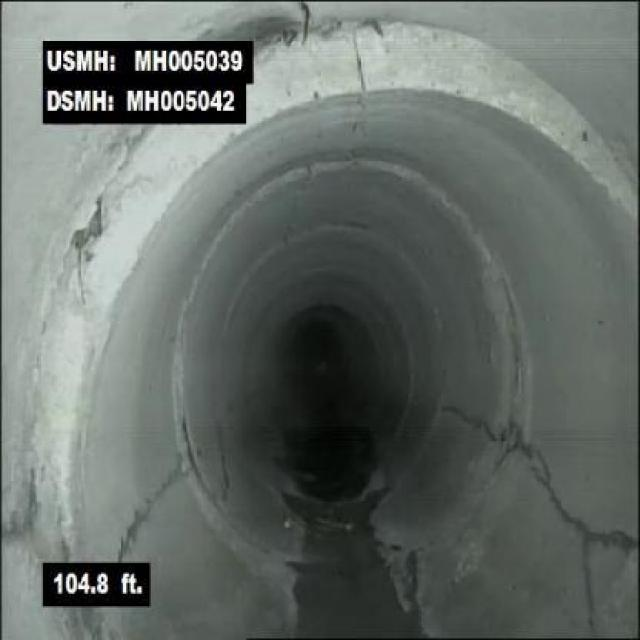Crack: (536, 457, 638, 538), (111, 474, 183, 558), (577, 544, 605, 634)
Joint offset: (26, 132, 145, 440), (375, 6, 597, 137), (257, 21, 345, 136)
